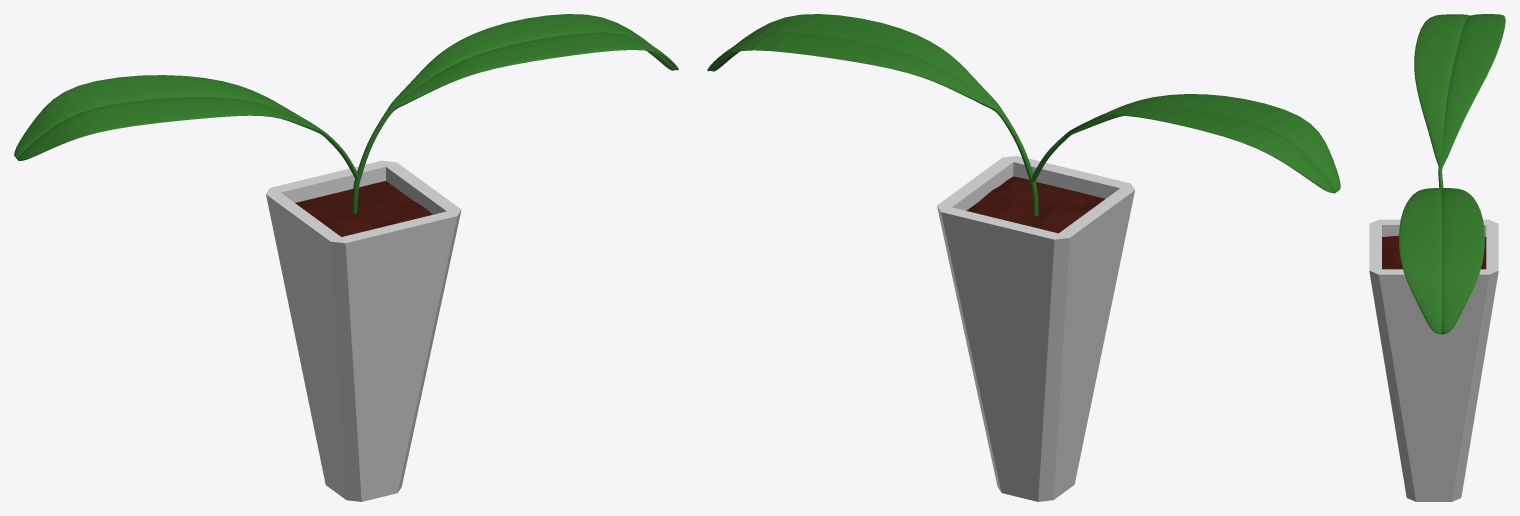
File: vaso_planta.fbx
The picture shows the model from 3 angles, left to right: view 1: azimuth 30°, elevation 25°; view 2: azimuth 150°, elevation 25°; view 3: azimuth 270°, elevation 25°; orthographic projection. The views are drawn at different scales.
Parts seen in each view (by area): view 1: vaso de planta; view 2: vaso de planta; view 3: vaso de planta.
Part boxes in pixels (bbox=[...]): vaso de planta: bbox=[14, 14, 678, 501]; vaso de planta: bbox=[707, 14, 1340, 501]; vaso de planta: bbox=[1369, 14, 1505, 501].
Bounding box in the file's own units: 840 × 541 × 182.
